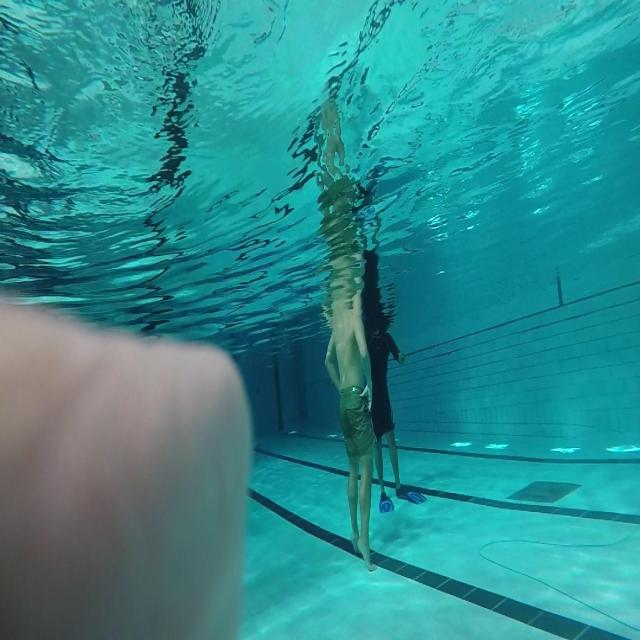human: (359, 246, 427, 514), (324, 259, 377, 572)
